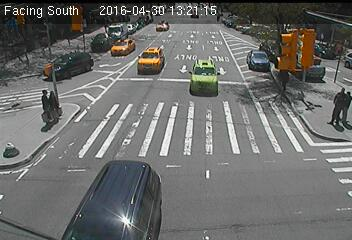neg: (204, 144, 235, 184), (142, 22, 171, 61), (188, 70, 217, 109), (113, 185, 140, 222), (113, 93, 139, 129), (201, 23, 226, 56), (287, 151, 310, 183), (4, 136, 27, 166), (68, 41, 90, 70), (267, 23, 286, 48), (70, 173, 88, 198), (153, 144, 164, 159)
pos: (319, 83, 348, 122), (21, 83, 48, 119), (46, 89, 71, 122), (278, 64, 297, 89)
